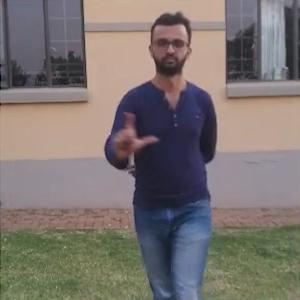land_hand: (107, 107, 160, 157)
